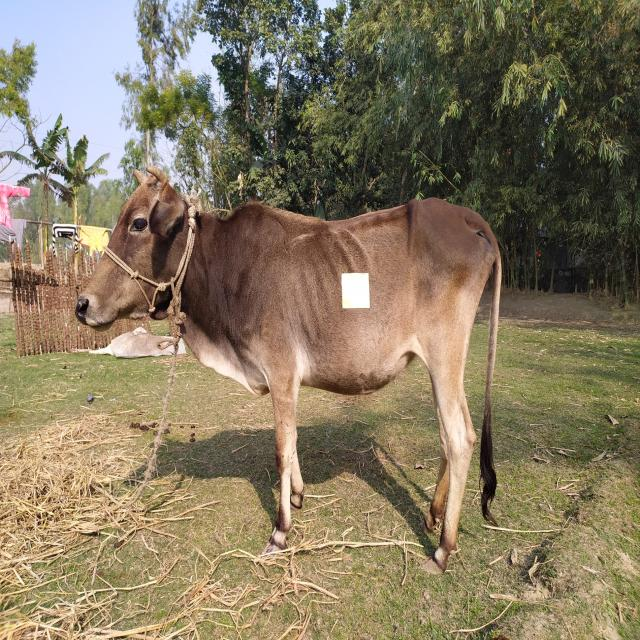badan_sapi: (241, 201, 493, 398)
sapi: (68, 162, 506, 570)
